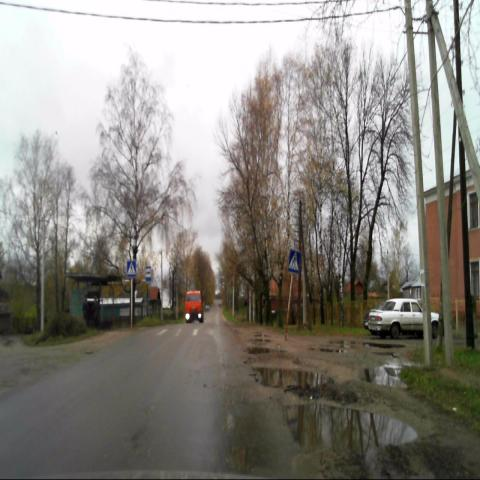5_19_1: (288, 248, 302, 273)
